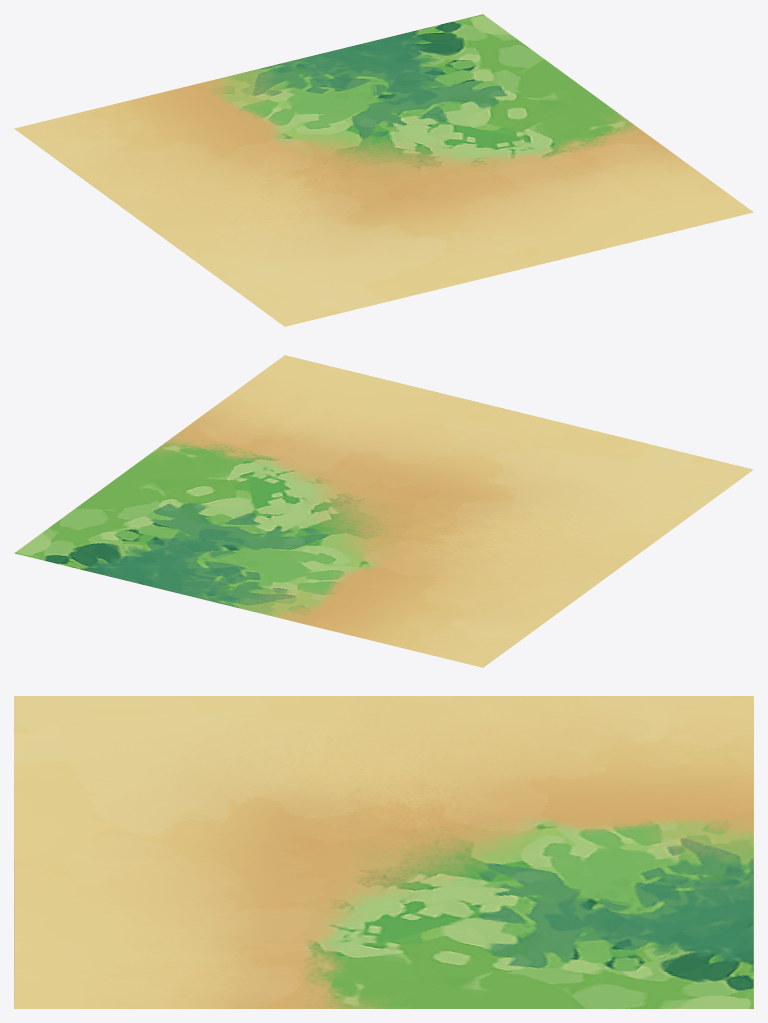
File: env_tiles_mesh_08.fbx
The picture shows the model from 3 angles, top to bottom: view 1: azimuth 30°, elevation 25°; view 2: azimuth 150°, elevation 25°; view 3: azimuth 270°, elevation 25°; orthographic projection. The views are drawn at different scales.
Parts seen in each view (by area): view 1: T8; view 2: T8; view 3: T8.
Boxes of the visible parts, x1,y1,x2,y2 form: T8: [14, 14, 753, 326]; T8: [14, 355, 753, 667]; T8: [14, 696, 753, 1008].
Bounding box in the file's own units: 1000 × 0 × 1000.
